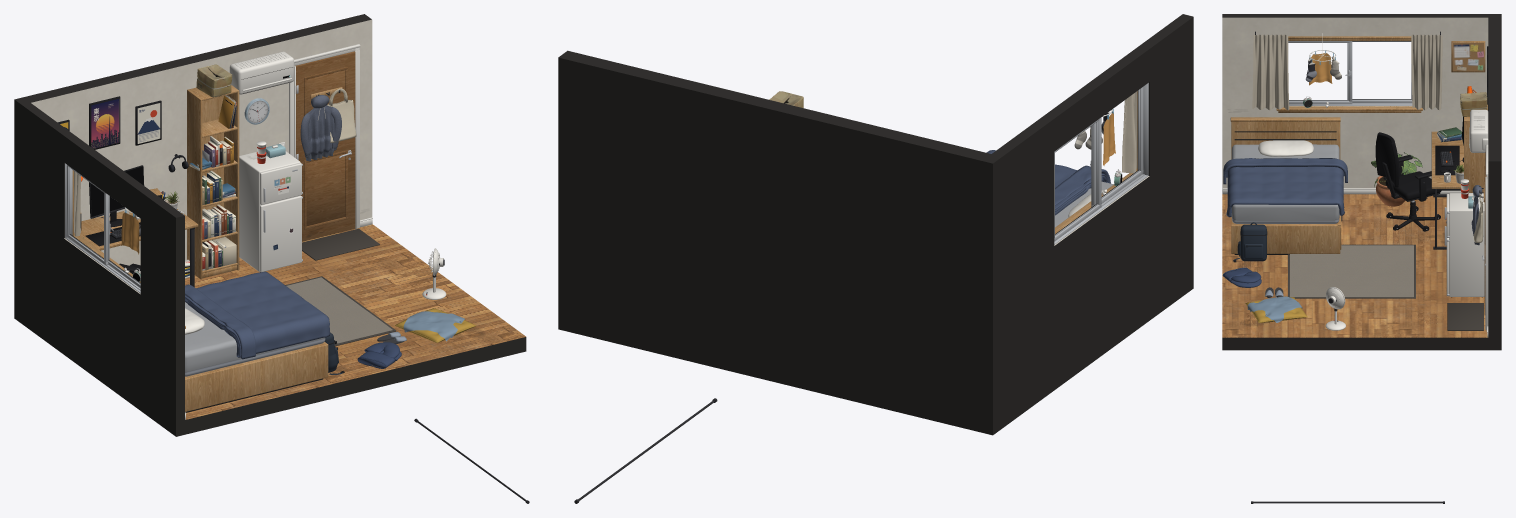
Rendered from room_clean.glb.
3 views of the same model, side by side, from view 1: azimuth 30°, elevation 25°; view 2: azimuth 150°, elevation 25°; view 3: azimuth 270°, elevation 25° (orthographic). The views are drawn at different scales.
Parts seen in each view (by area): view 1: room_static, hangers_mesh, cardboard_box_01; view 2: room_static; view 3: room_static, chair_mesh, hangers_mesh, cardboard_box_01, potted_plant_02_pot, potted_plant_02_leaves.
Boxes of the visible parts, x1,y1,x2,y2 form: room_static: (14, 14, 529, 503); hangers_mesh: (300, 87, 356, 161); cardboard_box_01: (196, 64, 232, 97); room_static: (558, 14, 1193, 503); room_static: (1222, 14, 1501, 503); chair_mesh: (1375, 132, 1441, 231); hangers_mesh: (1471, 184, 1484, 245); cardboard_box_01: (1460, 92, 1487, 116); potted_plant_02_pot: (1376, 176, 1405, 206); potted_plant_02_leaves: (1371, 152, 1422, 186).
Bounding box in the file's own units: 4.28 × 4.24 × 3.2.
54 materials, 29 textured.
